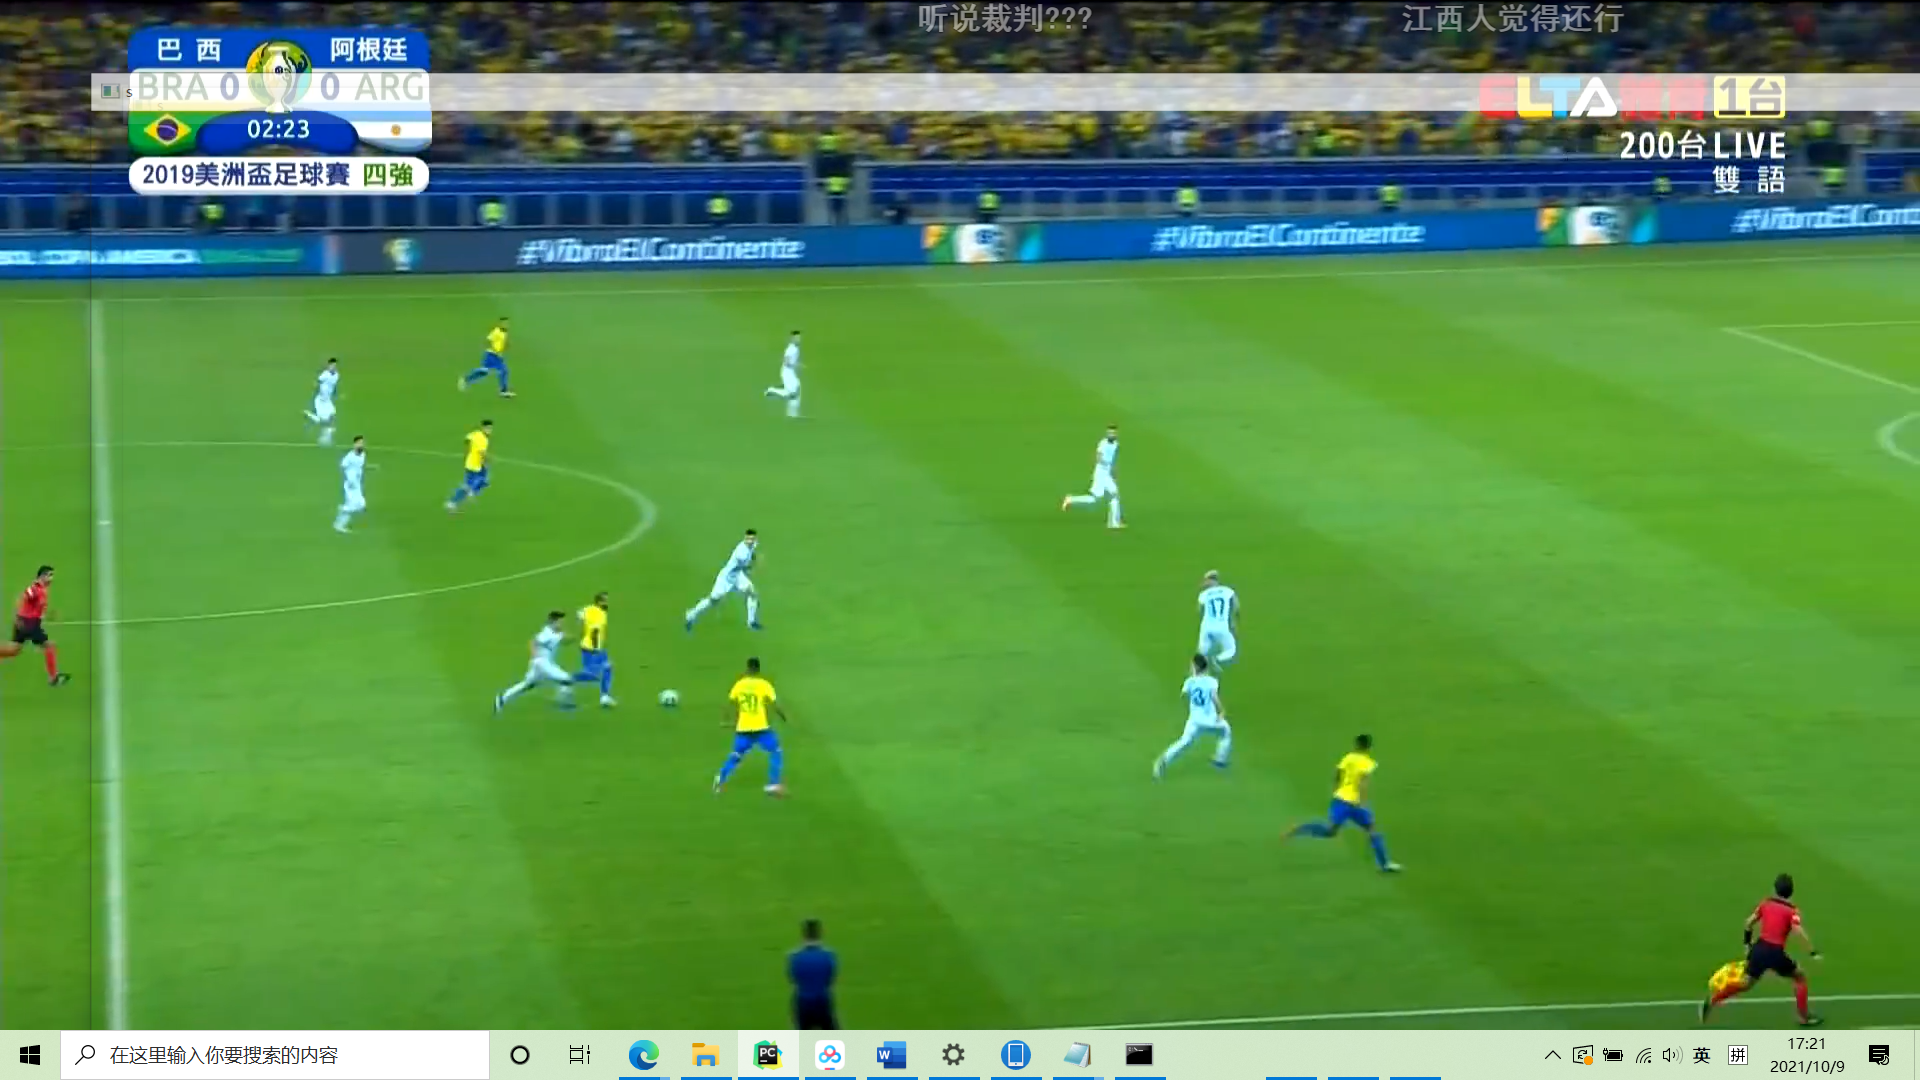ft: (655, 688, 680, 709)
